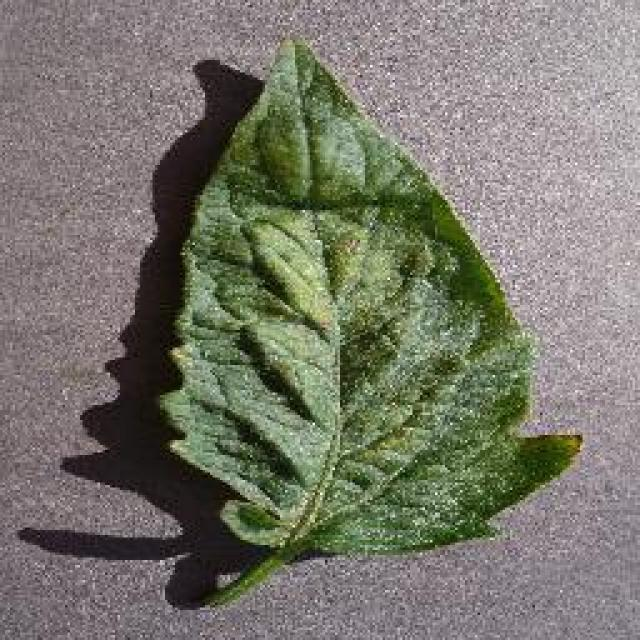Tomato spider mites leaf: (160, 35, 585, 567)
